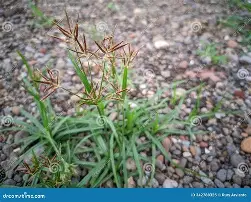weed: (38, 21, 172, 177)
